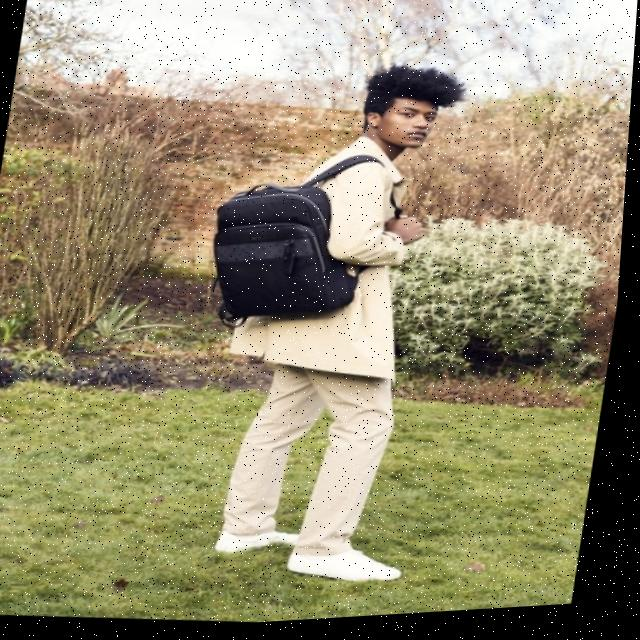backpack: (185, 165, 392, 345)
